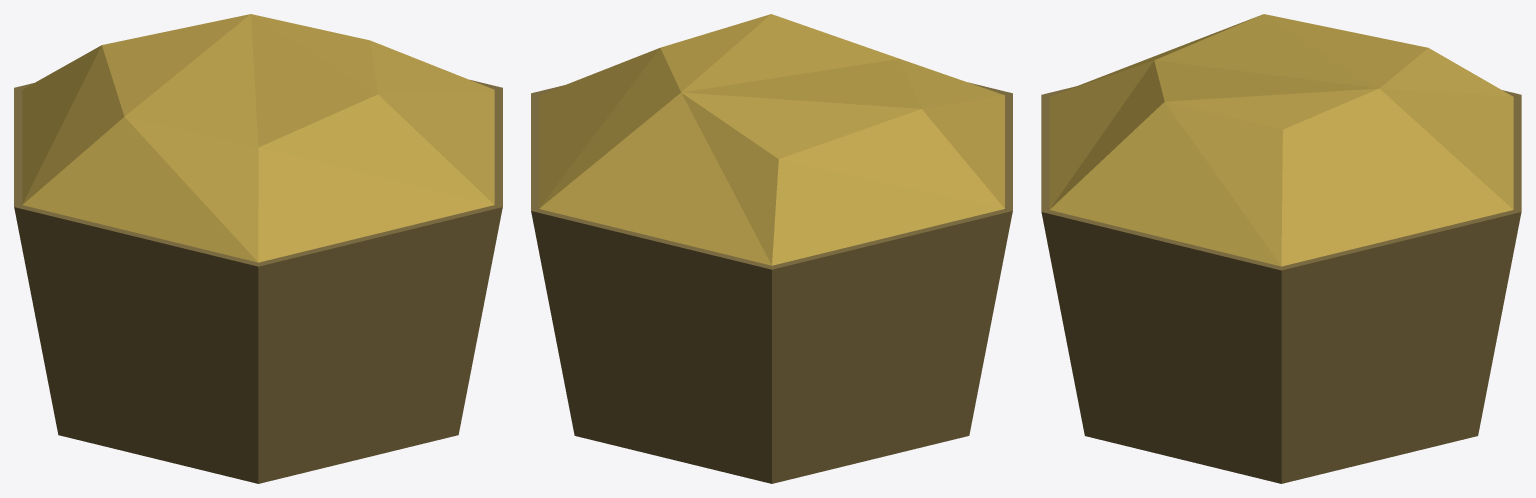
File: SM_CornbreadMuffin.fbx
3 views of the same model, side by side, from view 1: azimuth 30°, elevation 25°; view 2: azimuth 150°, elevation 25°; view 3: azimuth 270°, elevation 25° (orthographic).
Parts seen in each view (by area): view 1: Cornbread_Muffin; view 2: Cornbread_Muffin; view 3: Cornbread_Muffin.
Boxes of the visible parts, x1=… form: Cornbread_Muffin: x1=14, y1=14, x2=502, y2=483; Cornbread_Muffin: x1=531, y1=14, x2=1012, y2=483; Cornbread_Muffin: x1=1041, y1=14, x2=1521, y2=483.
Bounding box in the file's own units: 0.1756 × 0.1118 × 0.1521.
